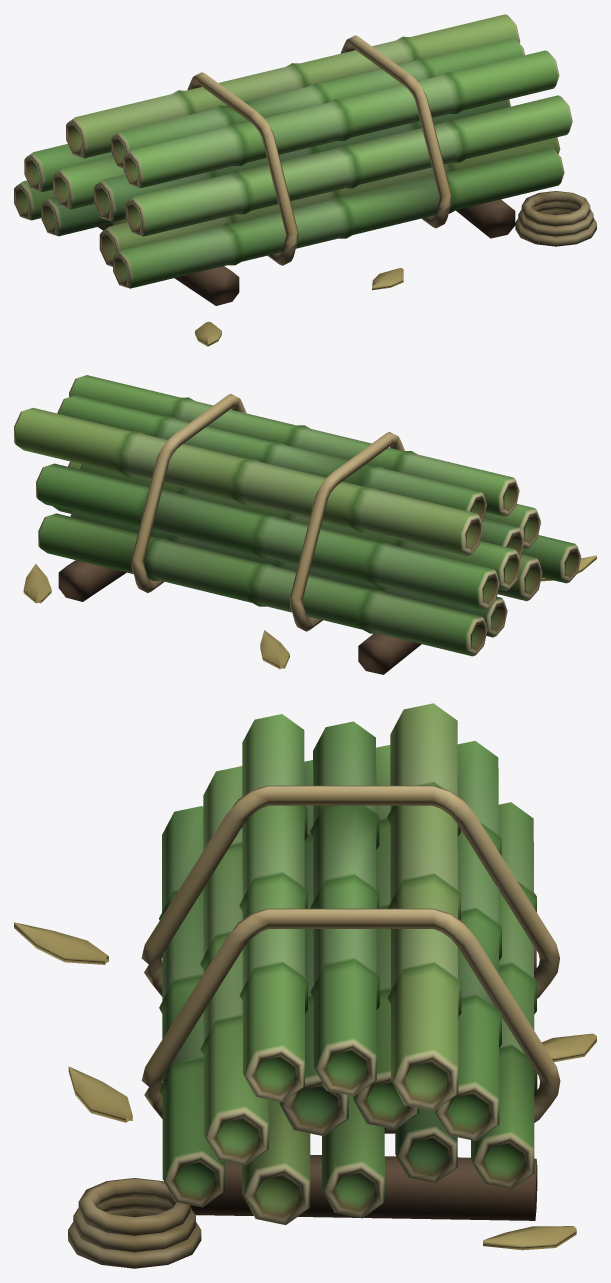
File: dg-bamboo-culmStack.glb
3 views of the same model, one above another, from view 1: azimuth 30°, elevation 25°; view 2: azimuth 150°, elevation 25°; view 3: azimuth 270°, elevation 25° (orthographic). The views are drawn at different scales.
Parts seen in each view (by area): view 1: body, leaf; view 2: body, leaf; view 3: body, leaf.
Part boxes in pixels (x1=…): body: x1=14, y1=14, x2=596, y2=305; leaf: x1=195, y1=268, x2=403, y2=346; body: x1=14, y1=375, x2=581, y2=674; leaf: x1=23, y1=555, x2=596, y2=669; body: x1=68, y1=703, x2=560, y2=1268; leaf: x1=14, y1=922, x2=596, y2=1250.
Size of the model in its own units: 1.94 by 0.619 by 1.29.
